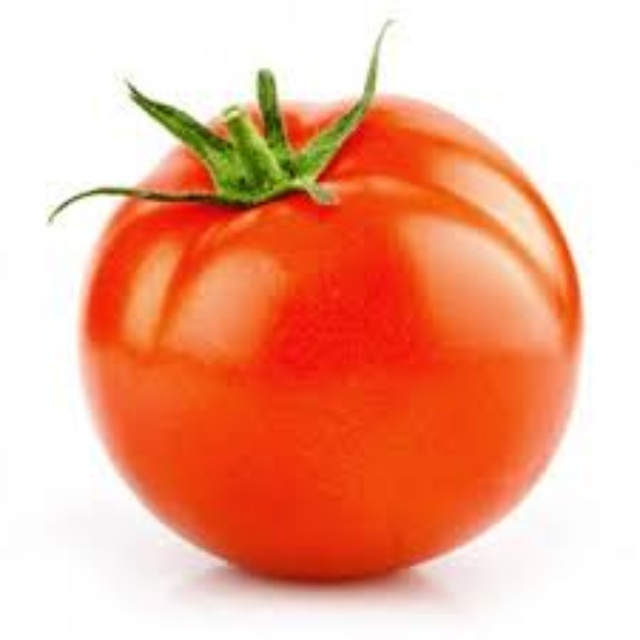tomato: (66, 70, 591, 581)
